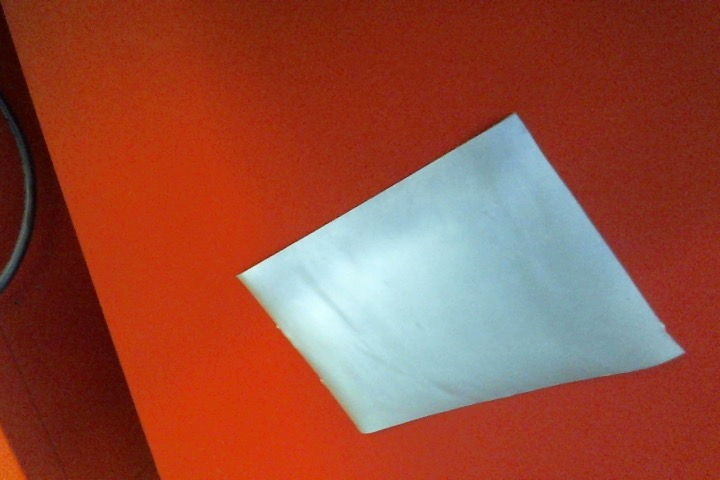Tape: (236, 112, 688, 434)
